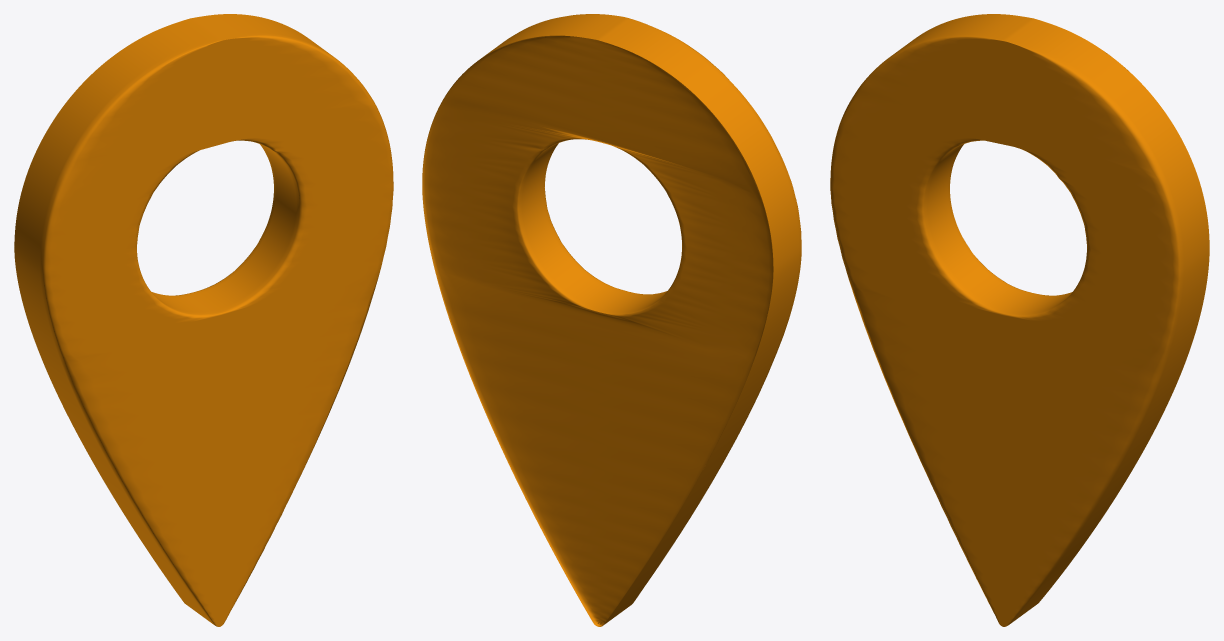
The model's file is orange.gltf.
3 renders of one model, left to right at view 1: azimuth 30°, elevation 25°; view 2: azimuth 150°, elevation 25°; view 3: azimuth 330°, elevation 25°, orthographic.
Visible parts, largest first — view 1: Curve_2; view 2: Curve_2; view 3: Curve_2.
Boxes of the visible parts, x1,y1,x2,y2 form: Curve_2: [14, 14, 393, 626]; Curve_2: [422, 14, 801, 626]; Curve_2: [830, 14, 1209, 626].
Size of the model in its own units: 0.2761 by 0.4404 by 0.0416.
